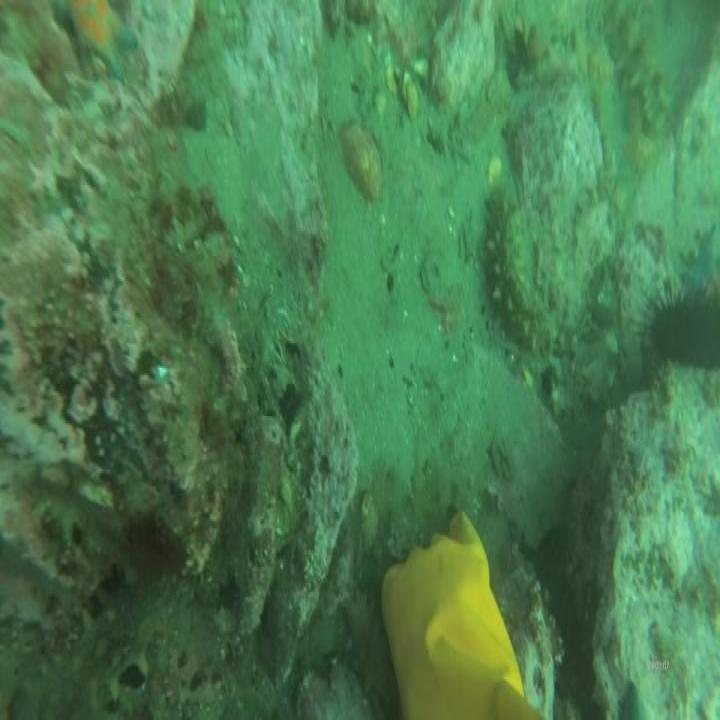echinus: (651, 295, 720, 372)
holothurian: (488, 201, 555, 354), (607, 6, 668, 116)
starfish: (63, 2, 136, 76)
